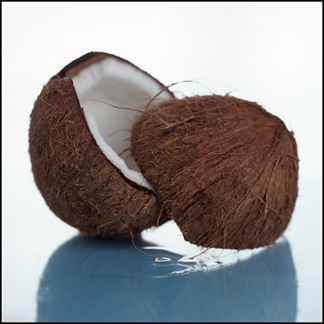coconut: (29, 50, 300, 252)
